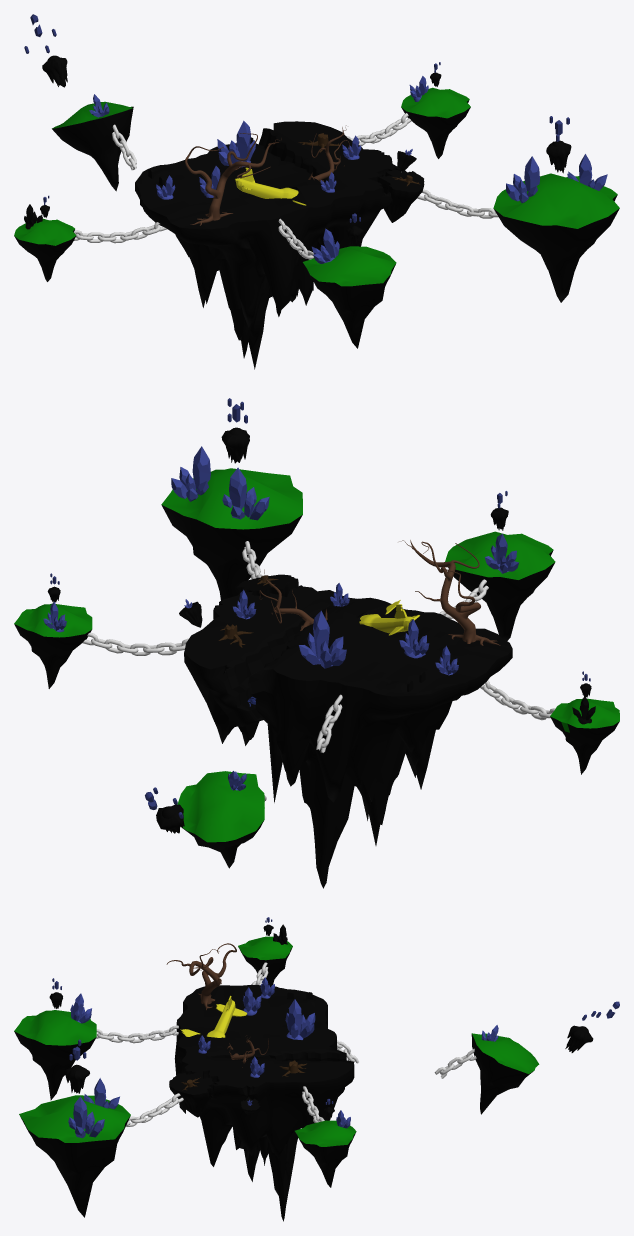
Rendered from Island ID map.fbx.
3 renders of one model, top to bottom at view 1: azimuth 30°, elevation 25°; view 2: azimuth 150°, elevation 25°; view 3: azimuth 270°, elevation 25°, orthographic. The views are drawn at different scales.
Parts seen in each view (by area): view 1: polySurface63; view 2: polySurface63; view 3: polySurface63.
Boxes of the visible parts, box(x1,y1,x2,y2) form: polySurface63: box(14, 14, 619, 369); polySurface63: box(14, 398, 619, 888); polySurface63: box(14, 917, 619, 1221).
Size of the model in its own units: 71.82 by 41.16 by 85.98.
